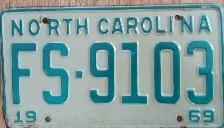0: (151, 39, 182, 106)
1: (119, 39, 150, 106)
3: (185, 39, 216, 106)
9: (86, 42, 117, 105)
F: (9, 40, 38, 107)
S: (40, 41, 71, 106)
